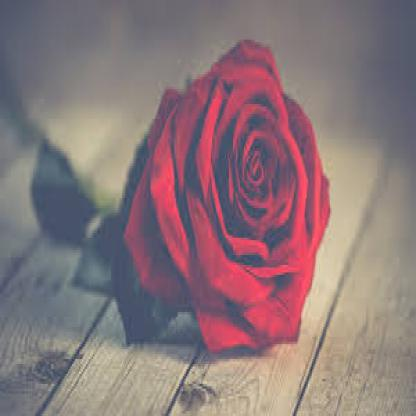Rose-Mawar: (109, 31, 335, 360)
